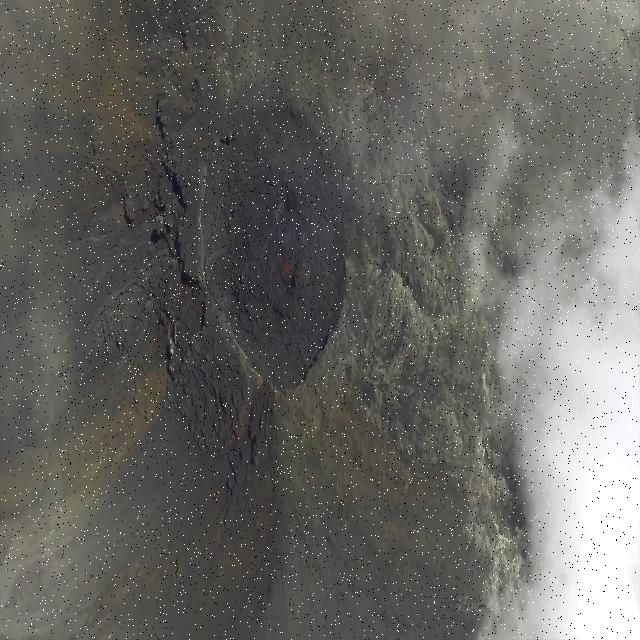Summit: (177, 68, 353, 426)
